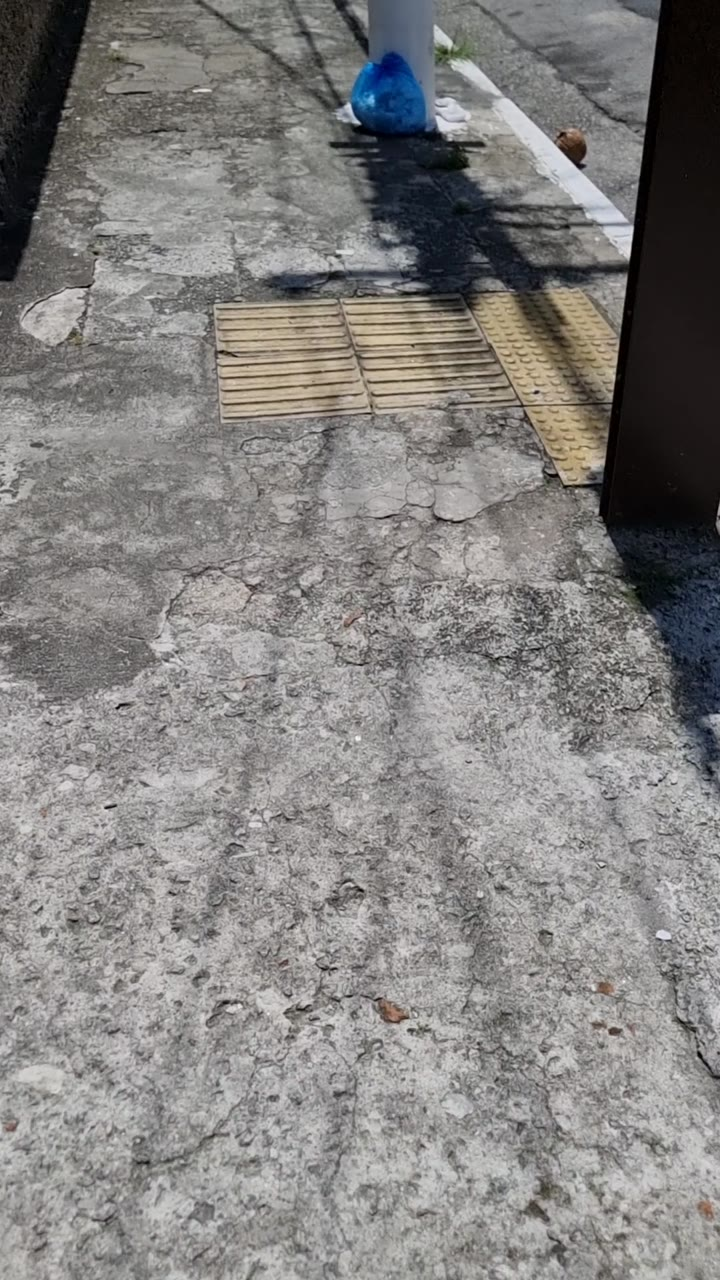obstaculo: (648, 0, 720, 704), (351, 52, 427, 135)
